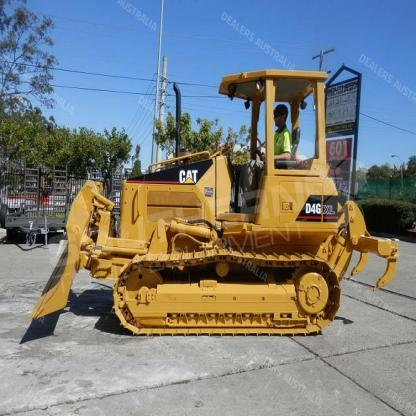bull_dozer/loader/grader: (40, 59, 410, 354)
